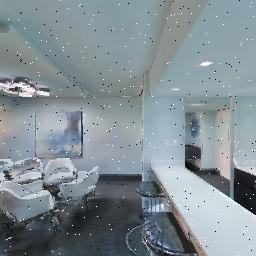chair: (0, 168, 58, 238), (55, 162, 103, 219), (129, 178, 168, 246), (42, 155, 78, 200)
door-frame: (177, 95, 243, 208)
